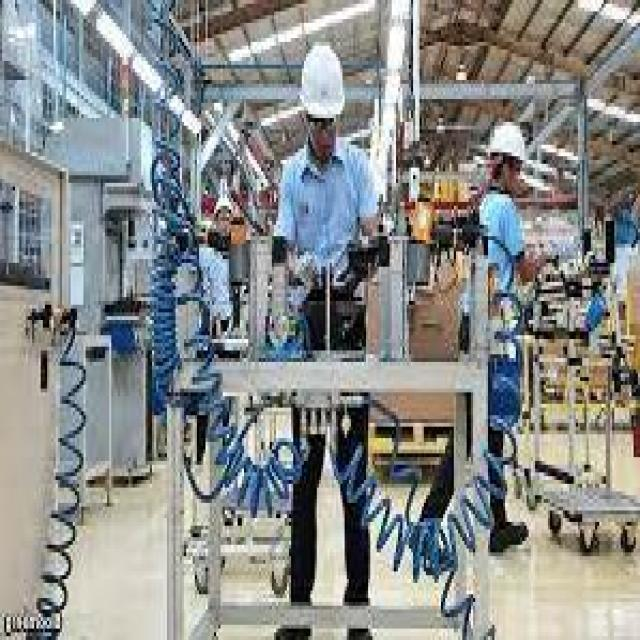Safety-Helmet: (291, 30, 353, 134), (475, 107, 533, 179)
